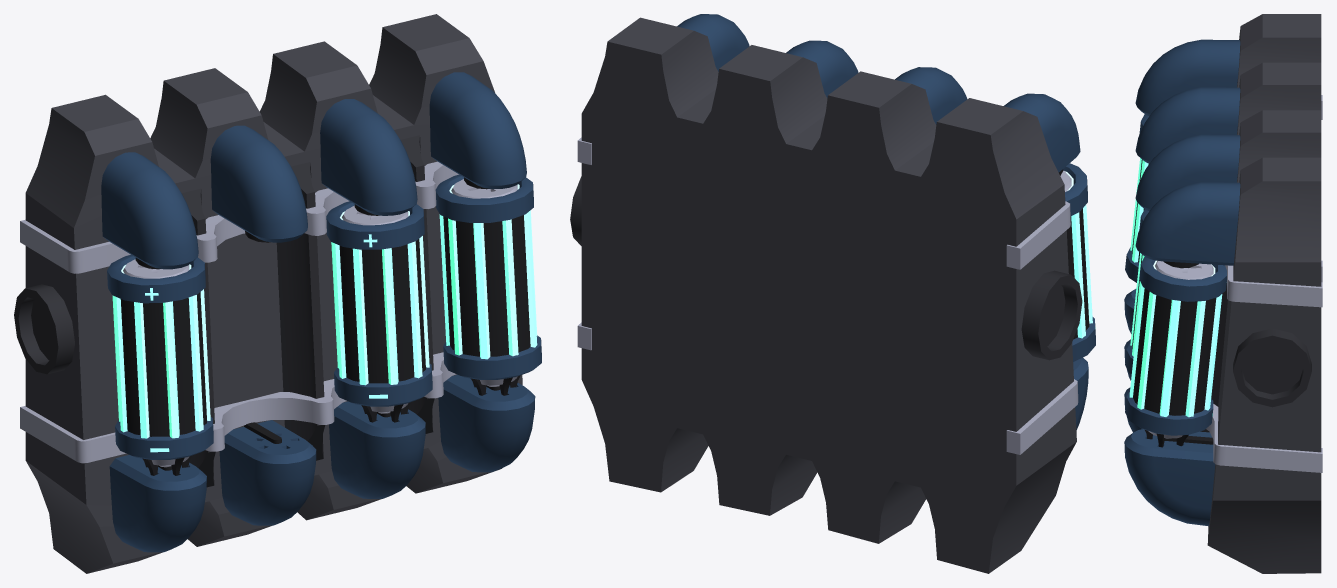
Rendered from Misc_BatteryCharger_X4_C.glb.
The picture shows the model from 3 angles, left to right: view 1: azimuth 30°, elevation 25°; view 2: azimuth 150°, elevation 25°; view 3: azimuth 270°, elevation 25°; orthographic projection. The views are drawn at different scales.
Visible parts, largest first — view 1: Misc_BatteryCharger_X4_C.001; view 2: Misc_BatteryCharger_X4_C.001; view 3: Misc_BatteryCharger_X4_C.001.
Boxes of the visible parts, x1,y1,x2,y2 form: Misc_BatteryCharger_X4_C.001: (14,14,541,573); Misc_BatteryCharger_X4_C.001: (570,14,1095,573); Misc_BatteryCharger_X4_C.001: (1124,14,1322,573).
Size of the model in its own units: 0.344 by 0.3091 by 0.141.
